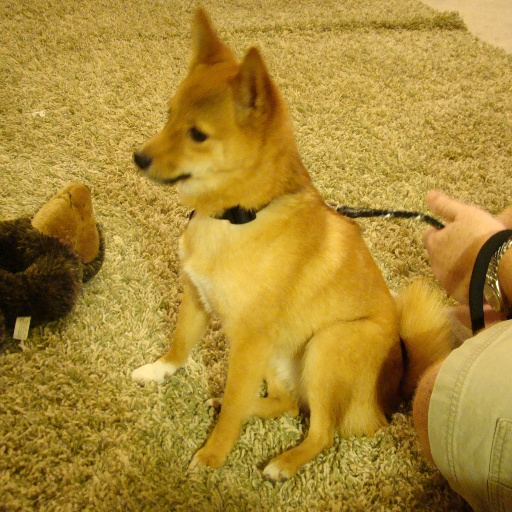hand: (426, 171, 508, 299)
